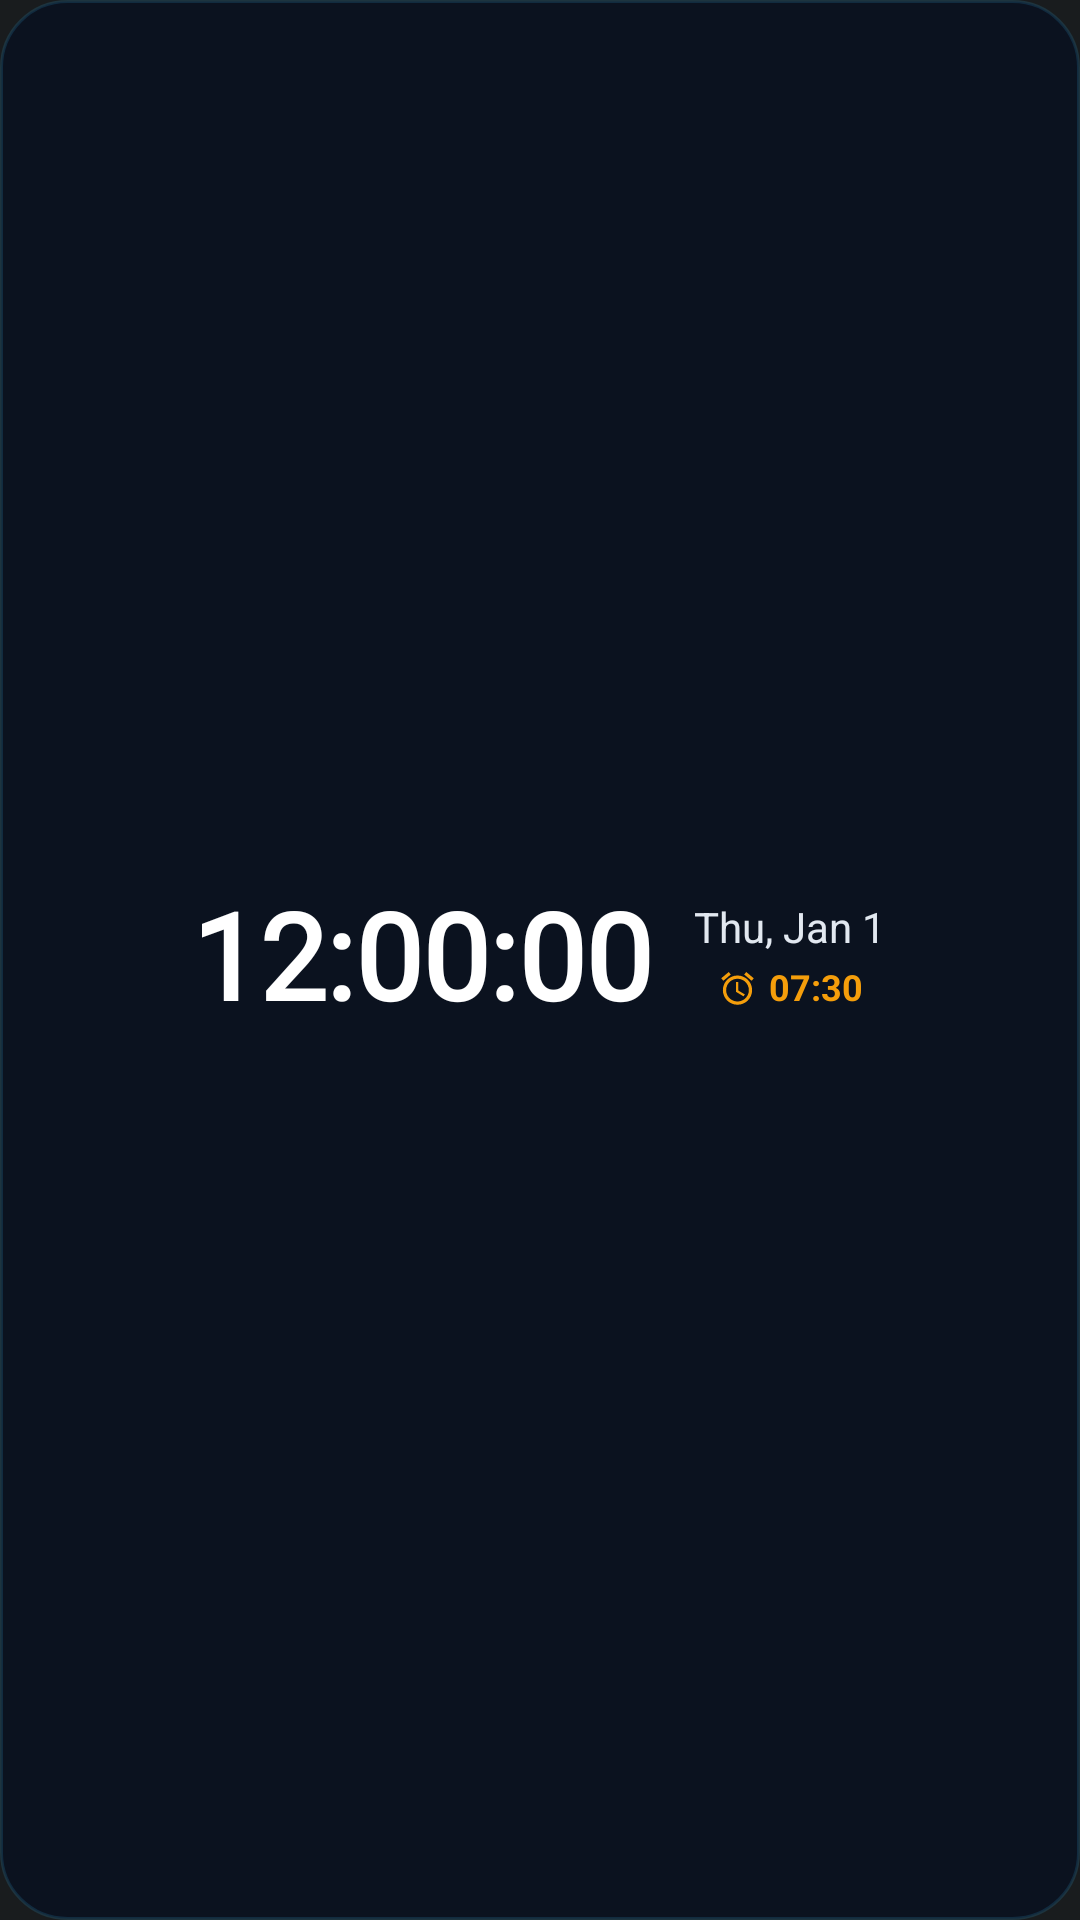

Screen size 1080 x 1920. Icon name, then its box in pixels as bbox=(x1, y1, x2, y2):
Next alarm: bbox=(721, 972, 754, 1005)
